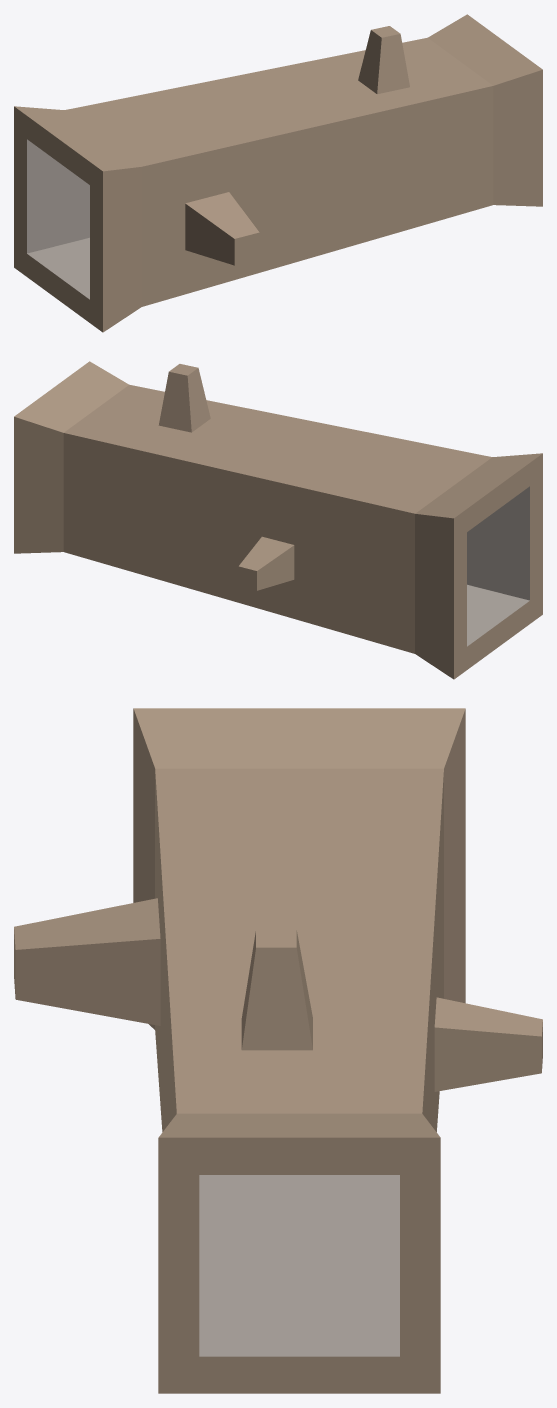
File: K_LogBig.glb
3 renders of one model, top to bottom at view 1: azimuth 30°, elevation 25°; view 2: azimuth 150°, elevation 25°; view 3: azimuth 270°, elevation 25°, orthographic. The views are drawn at different scales.
Parts seen in each view (by area): view 1: K_LogBig; view 2: K_LogBig; view 3: K_LogBig.
Part boxes in pixels (left/top/right/bottom): K_LogBig: left=14, top=14, right=542, bottom=332; K_LogBig: left=14, top=361, right=542, bottom=679; K_LogBig: left=14, top=708, right=542, bottom=1393.
Size of the model in its own units: 2.4 by 1 by 1.32.
